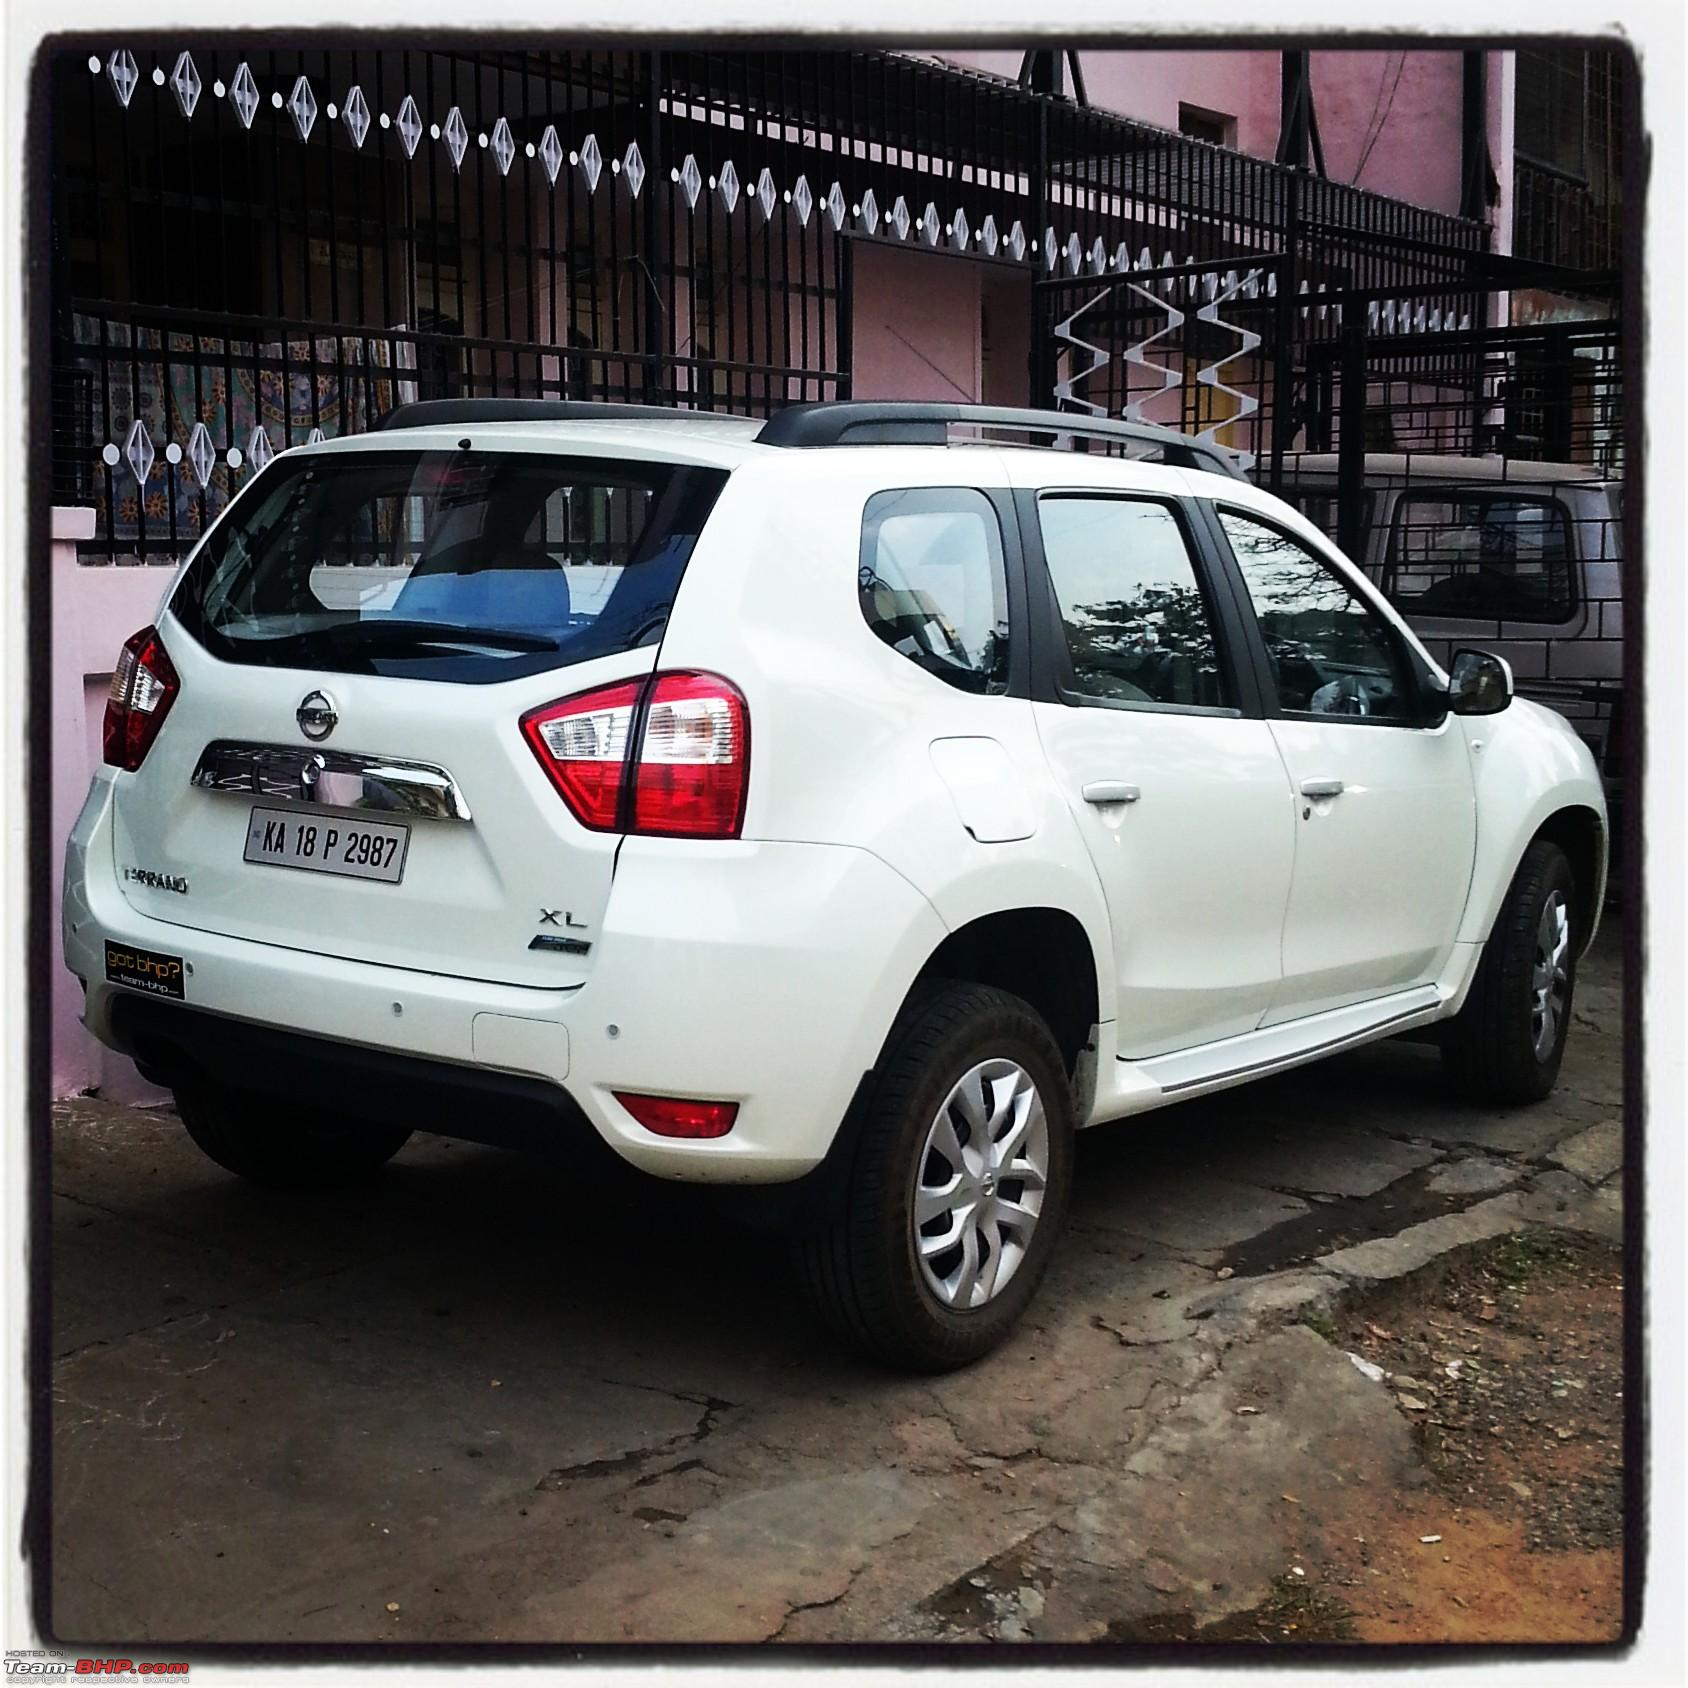number_plate: (237, 795, 429, 906)
